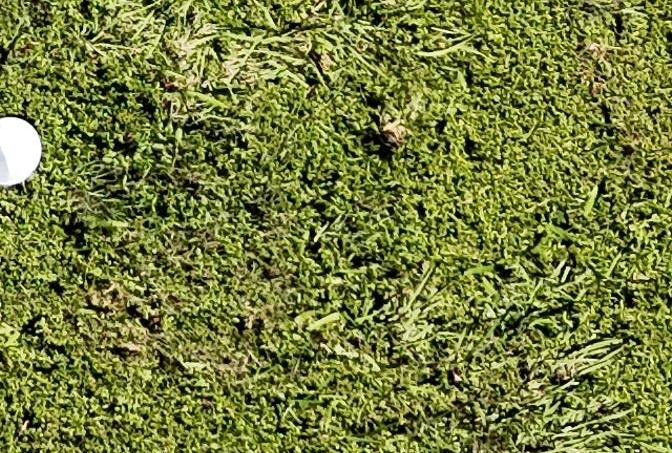bowl: (0, 119, 41, 188)
